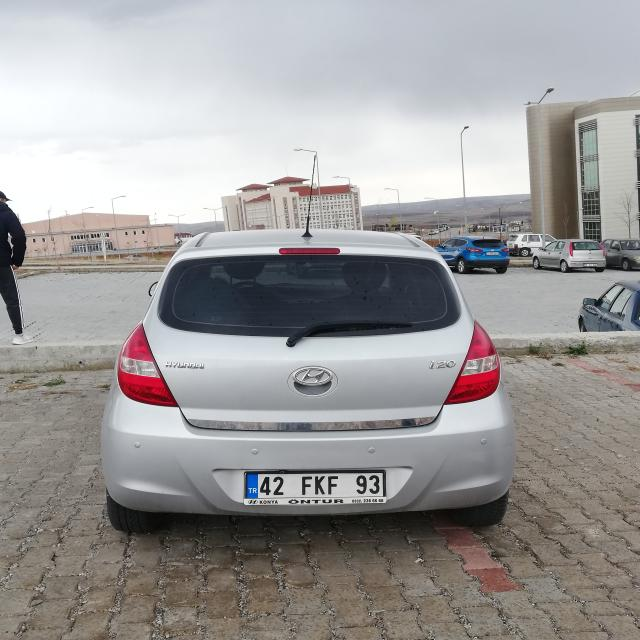license_plate: (246, 472, 384, 500)
